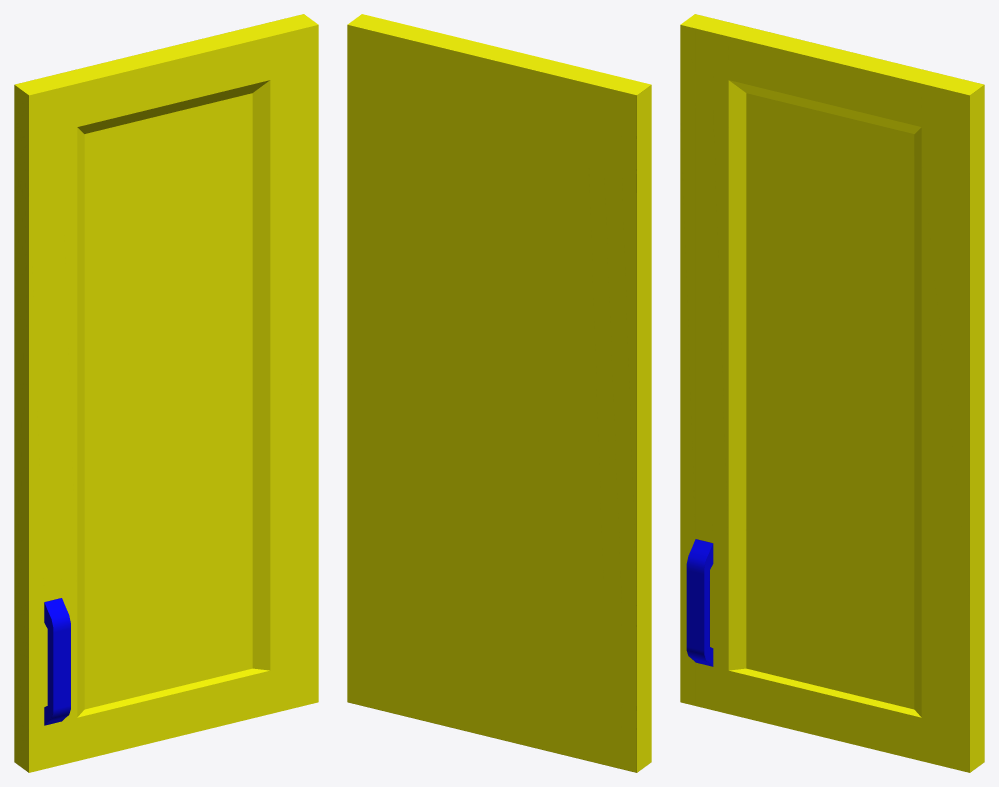
The model's file is SM_CabinetDoorR.fbx.
3 renders of one model, left to right at view 1: azimuth 30°, elevation 25°; view 2: azimuth 150°, elevation 25°; view 3: azimuth 330°, elevation 25°, orthographic.
Parts seen in each view (by area): view 1: DoorR; view 2: DoorR; view 3: DoorR.
Boxes of the visible parts, x1,y1,x2,y2 form: DoorR: (14, 14, 318, 772); DoorR: (347, 14, 651, 772); DoorR: (680, 14, 984, 772).
Size of the model in its own units: 0.806 by 1.8 by 0.1139.
1 material, 1 textured.
